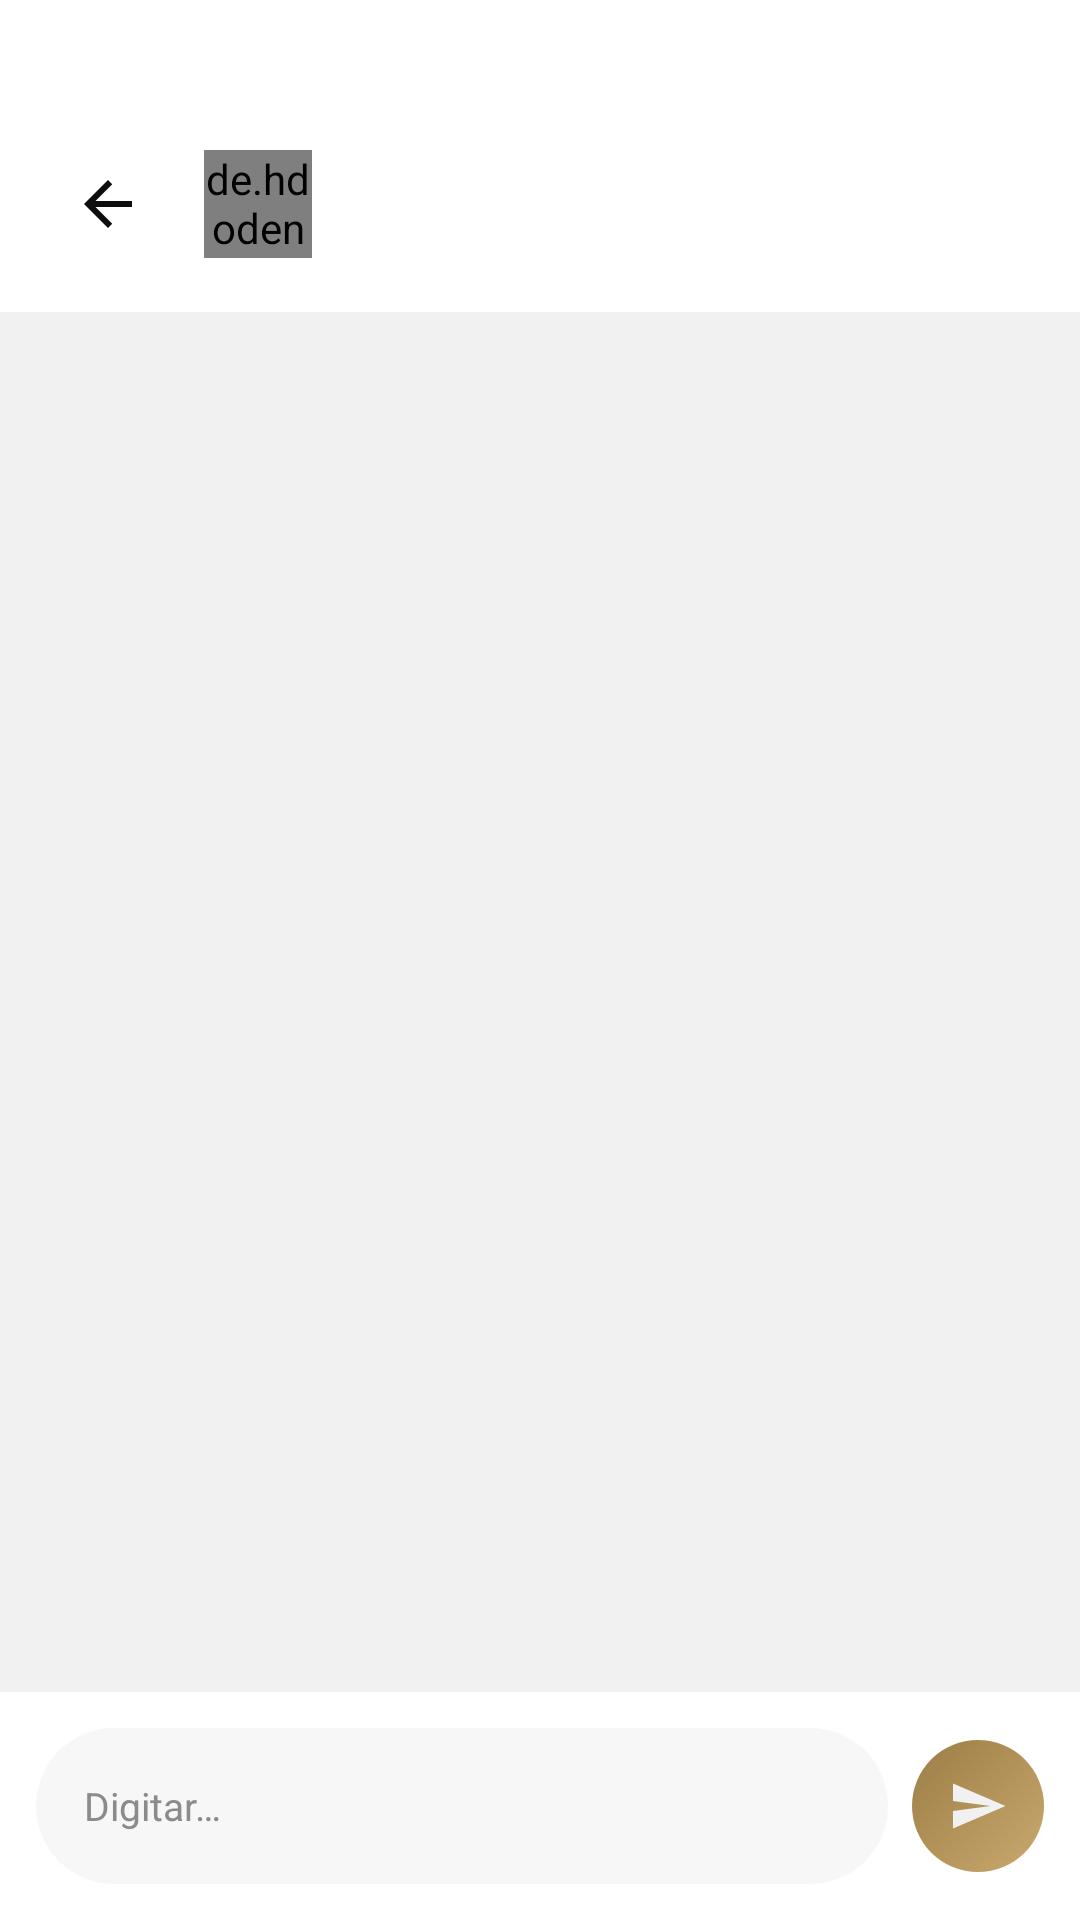

Screen size 1080*1920. Icon name, then its box in pixels as (x1, y1, x2, y2):
Back: (84, 180, 132, 228)
Enviar: (953, 1783, 1005, 1829)
